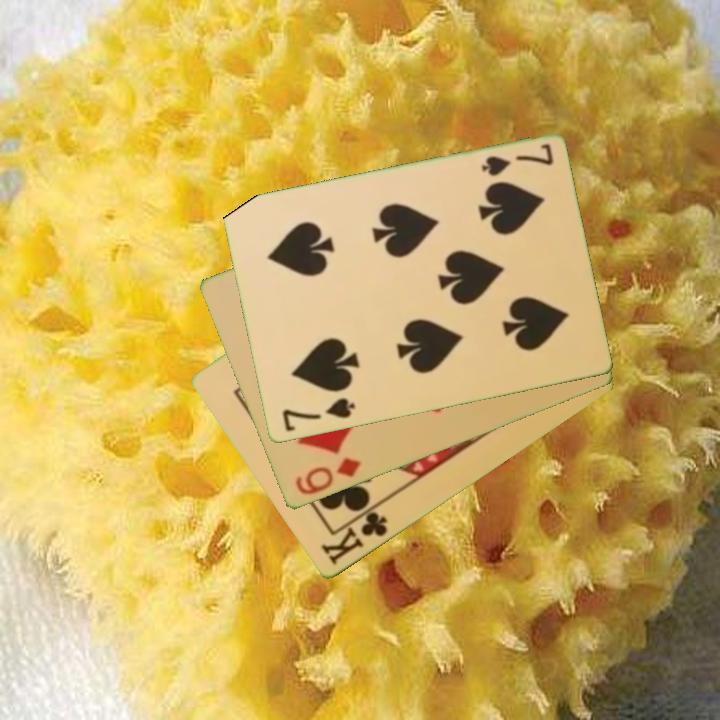6d: (291, 454, 364, 499)
7s: (278, 395, 358, 435), (477, 140, 556, 180)
Kc: (317, 501, 391, 569)
